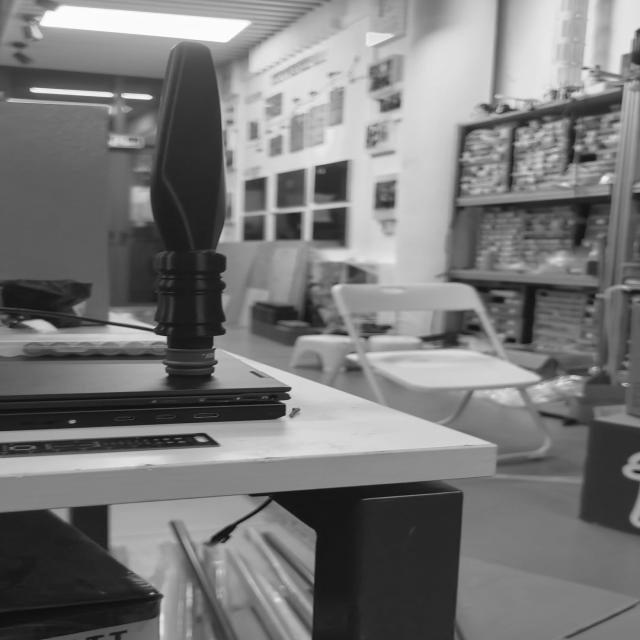base: (162, 348, 218, 378)
